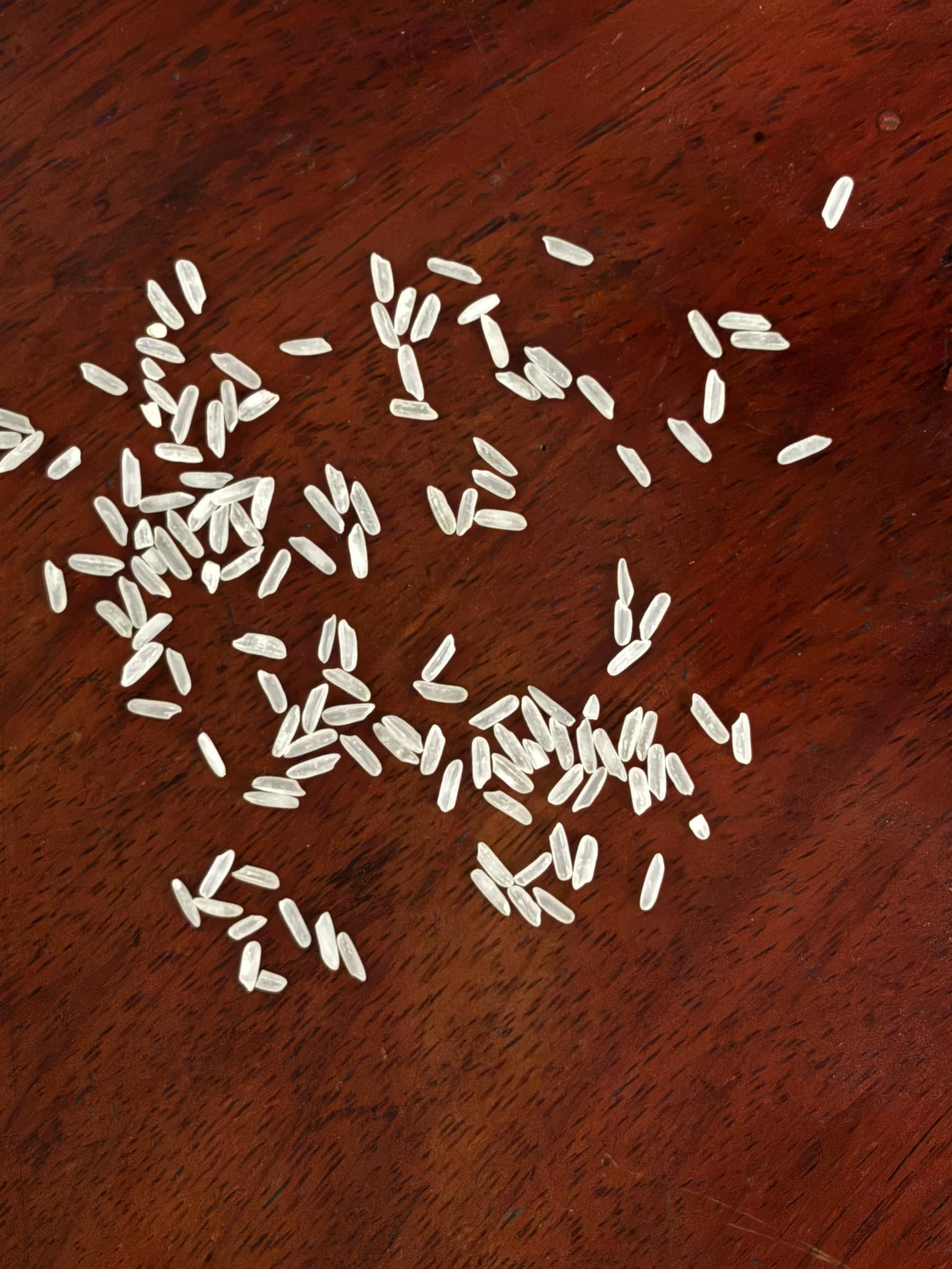Rice-th-y-nh: (142, 278, 186, 332), (527, 681, 576, 729), (667, 415, 713, 464), (303, 484, 347, 535), (170, 258, 210, 314), (152, 527, 193, 581), (688, 693, 730, 745), (391, 344, 429, 401), (370, 721, 418, 766), (210, 350, 262, 391), (492, 723, 533, 774), (289, 534, 338, 576), (524, 345, 573, 387), (165, 508, 205, 559), (120, 642, 164, 688), (245, 476, 282, 530), (519, 696, 554, 753), (471, 436, 518, 478), (592, 728, 628, 782), (696, 370, 732, 424), (574, 374, 616, 420), (470, 869, 511, 916), (93, 495, 130, 547), (685, 309, 724, 358), (198, 849, 236, 899), (339, 734, 383, 777), (0, 430, 45, 472), (820, 175, 855, 229), (256, 548, 293, 599), (467, 694, 519, 730), (606, 637, 652, 677), (348, 481, 382, 535), (77, 362, 129, 397), (364, 252, 399, 304), (129, 556, 171, 599), (725, 712, 759, 765), (483, 789, 533, 825), (776, 432, 832, 464), (571, 766, 609, 813), (331, 619, 365, 671), (426, 255, 483, 286), (491, 753, 534, 794), (479, 314, 511, 369), (522, 362, 567, 401), (278, 898, 313, 948), (170, 384, 200, 442), (281, 728, 337, 759), (368, 301, 402, 352), (323, 666, 371, 702), (228, 501, 264, 549), (542, 234, 594, 267), (476, 842, 513, 888), (220, 545, 266, 582), (207, 476, 260, 508), (421, 634, 456, 682), (233, 630, 287, 661), (615, 444, 653, 488), (213, 379, 245, 431), (409, 293, 442, 343), (449, 487, 482, 537), (638, 592, 672, 640), (425, 485, 457, 536), (271, 705, 302, 757), (729, 328, 791, 354), (533, 886, 575, 924), (381, 715, 423, 753), (95, 599, 134, 639), (117, 577, 147, 629), (547, 764, 584, 806), (639, 854, 666, 911), (606, 599, 638, 647), (314, 911, 340, 970), (135, 335, 186, 365), (456, 294, 502, 327), (41, 560, 69, 614), (494, 370, 541, 402), (436, 759, 464, 812), (132, 613, 173, 649), (286, 753, 340, 780), (548, 719, 576, 771), (68, 552, 124, 578), (337, 932, 366, 982), (507, 885, 542, 926), (572, 835, 598, 890), (301, 683, 329, 734), (323, 463, 351, 514), (548, 824, 573, 881), (171, 880, 201, 927), (256, 670, 288, 714), (413, 679, 469, 704), (471, 469, 516, 500), (119, 449, 143, 507), (139, 490, 194, 515), (142, 379, 180, 415), (204, 400, 228, 457), (252, 773, 306, 798), (419, 725, 446, 775), (514, 852, 553, 886), (323, 702, 376, 727), (127, 696, 180, 721), (718, 309, 771, 334), (664, 752, 694, 796), (197, 733, 227, 777), (575, 719, 599, 774), (164, 648, 192, 695), (238, 393, 280, 424), (475, 506, 527, 531), (346, 524, 370, 578), (626, 767, 653, 815), (243, 788, 299, 811), (388, 397, 439, 422), (391, 287, 417, 336), (207, 504, 233, 553), (179, 468, 232, 492), (617, 708, 641, 761), (645, 744, 668, 799), (46, 446, 82, 481), (315, 614, 340, 664), (154, 440, 204, 465), (470, 737, 493, 789), (194, 895, 243, 919), (233, 865, 280, 890), (635, 712, 659, 760), (614, 559, 636, 607), (280, 337, 332, 357), (239, 941, 260, 990), (0, 407, 35, 435), (197, 559, 225, 594), (228, 915, 267, 940), (523, 737, 550, 769), (141, 547, 168, 575), (255, 970, 287, 992), (139, 357, 166, 382), (133, 519, 154, 551), (139, 402, 162, 429), (689, 813, 711, 840), (582, 694, 601, 721)
